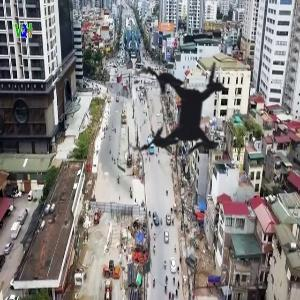drone: (87, 19, 279, 211)
